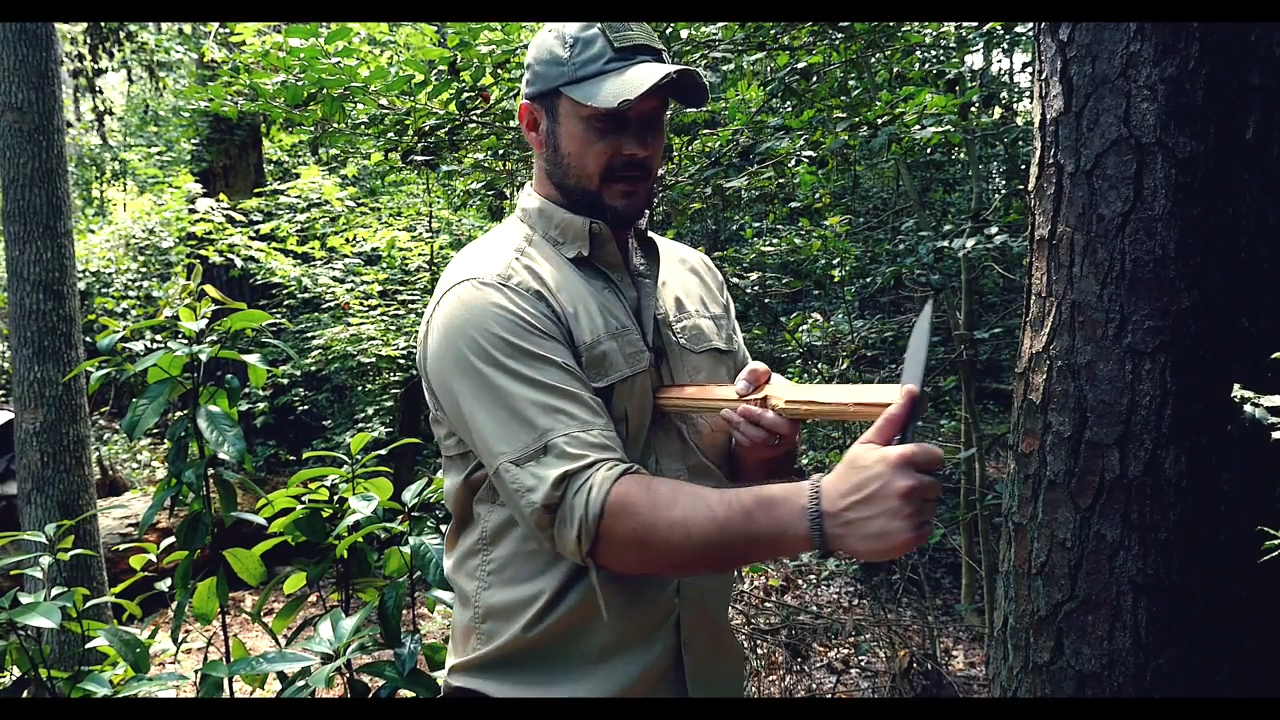knife: (829, 288, 958, 516)
